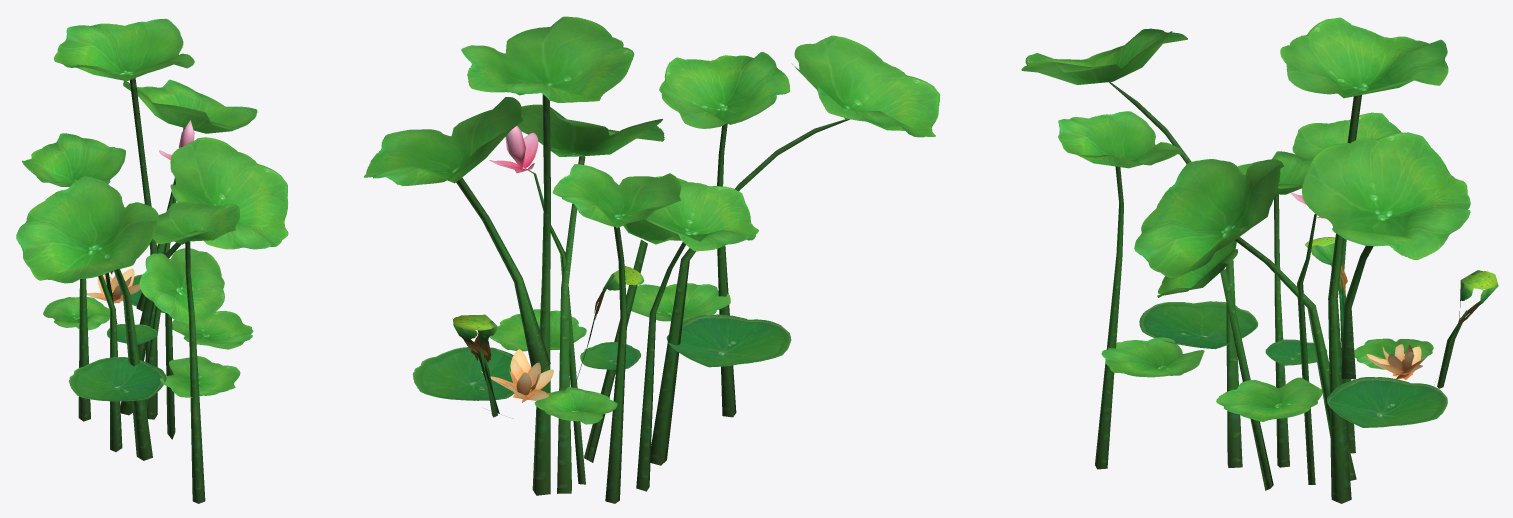
File: Scene_cao_010.FBX
3 renders of one model, left to right at view 1: azimuth 30°, elevation 25°; view 2: azimuth 150°, elevation 25°; view 3: azimuth 270°, elevation 25°, orthographic. The views are drawn at different scales.
Visible parts, largest first — view 1: Scene_cao_010; view 2: Scene_cao_010; view 3: Scene_cao_010.
Boxes of the visible parts, bbox=[...] form: Scene_cao_010: bbox=[16, 18, 288, 503]; Scene_cao_010: bbox=[364, 16, 940, 503]; Scene_cao_010: bbox=[1021, 17, 1498, 503].
Bounding box in the file's own units: 112 × 109 × 112.
